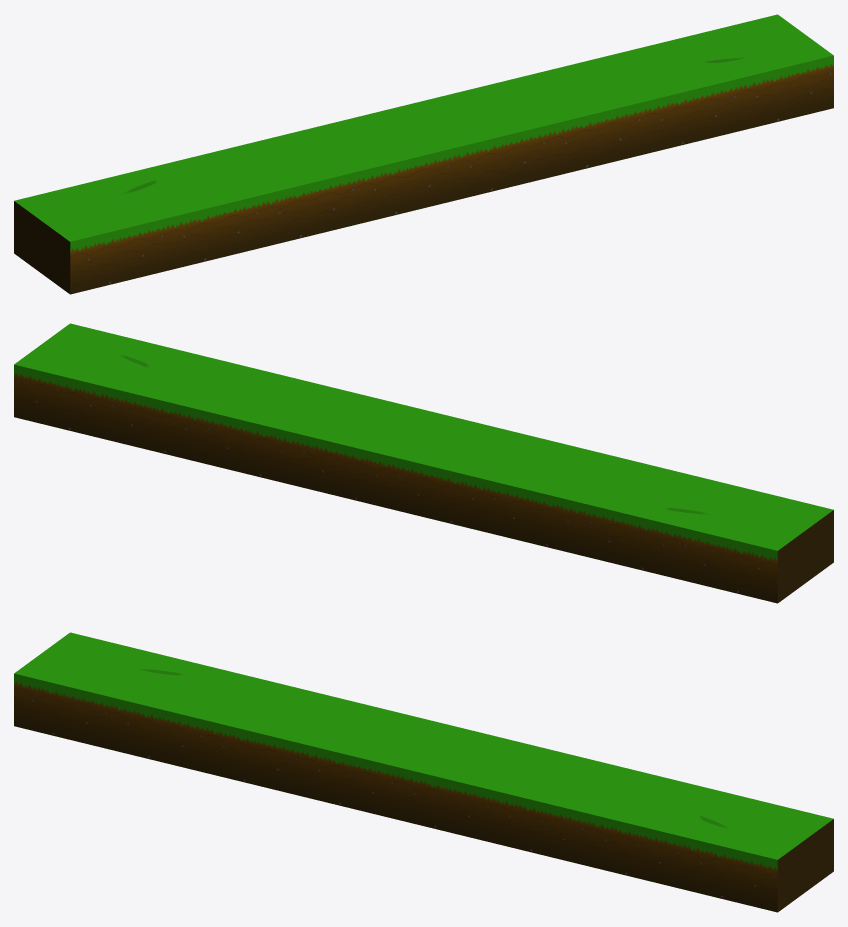
File: jimen.fbx
The picture shows the model from 3 angles, top to bottom: view 1: azimuth 30°, elevation 25°; view 2: azimuth 150°, elevation 25°; view 3: azimuth 330°, elevation 25°; orthographic projection.
Visible parts, largest first — view 1: pCube1; view 2: pCube1; view 3: pCube1.
Part boxes in pixels (<box>): pCube1: <box>14,14,833,294</box>; pCube1: <box>14,323,833,603</box>; pCube1: <box>14,632,833,912</box>.
Bounding box in the file's own units: 20025 × 1319 × 2551.
